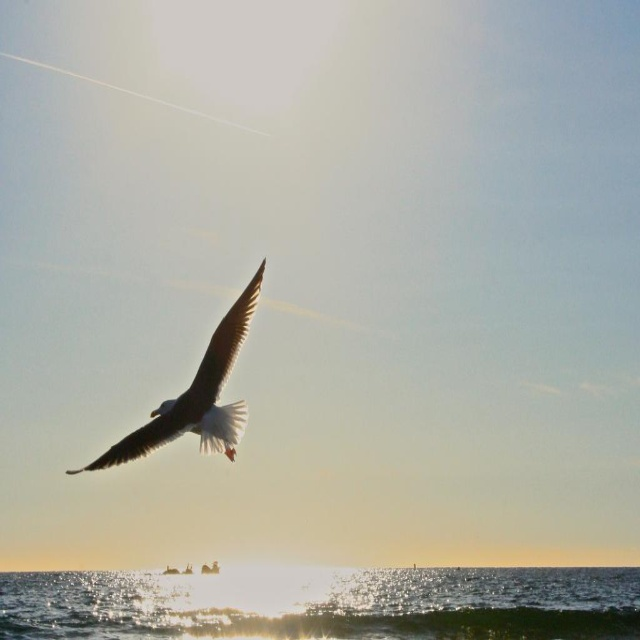Eagle: (64, 251, 266, 484)
